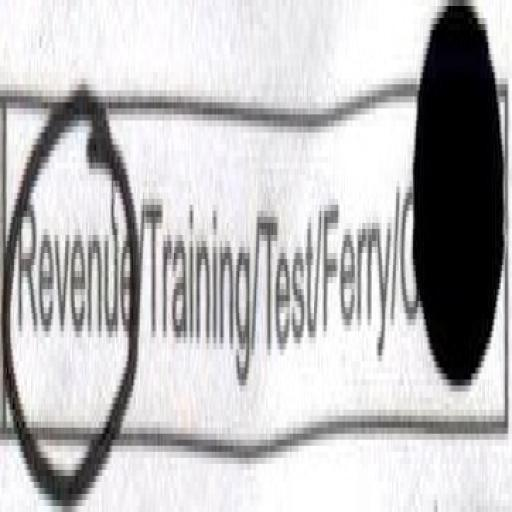check: (0, 60, 139, 500)
